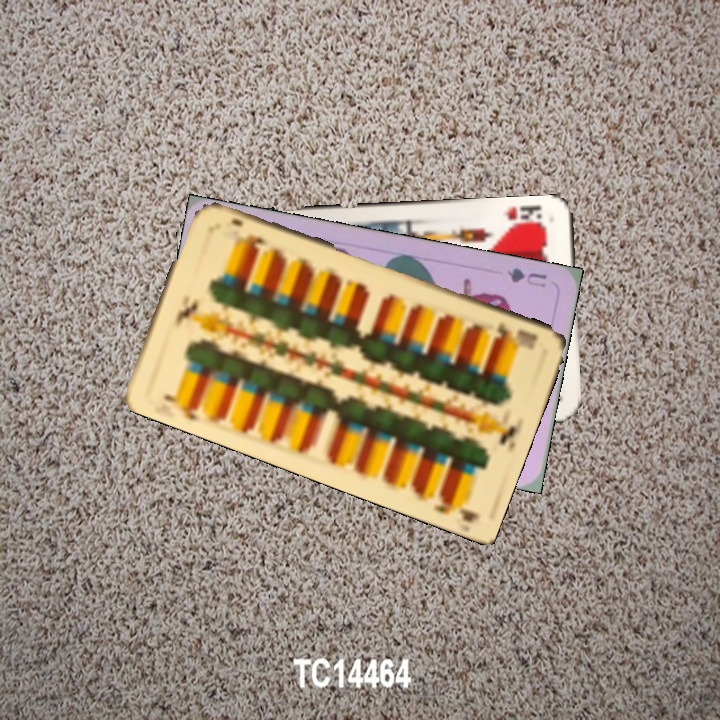E10: (491, 318, 540, 354), (159, 390, 204, 423)
GU: (503, 263, 550, 290)
HK: (502, 202, 548, 230)
